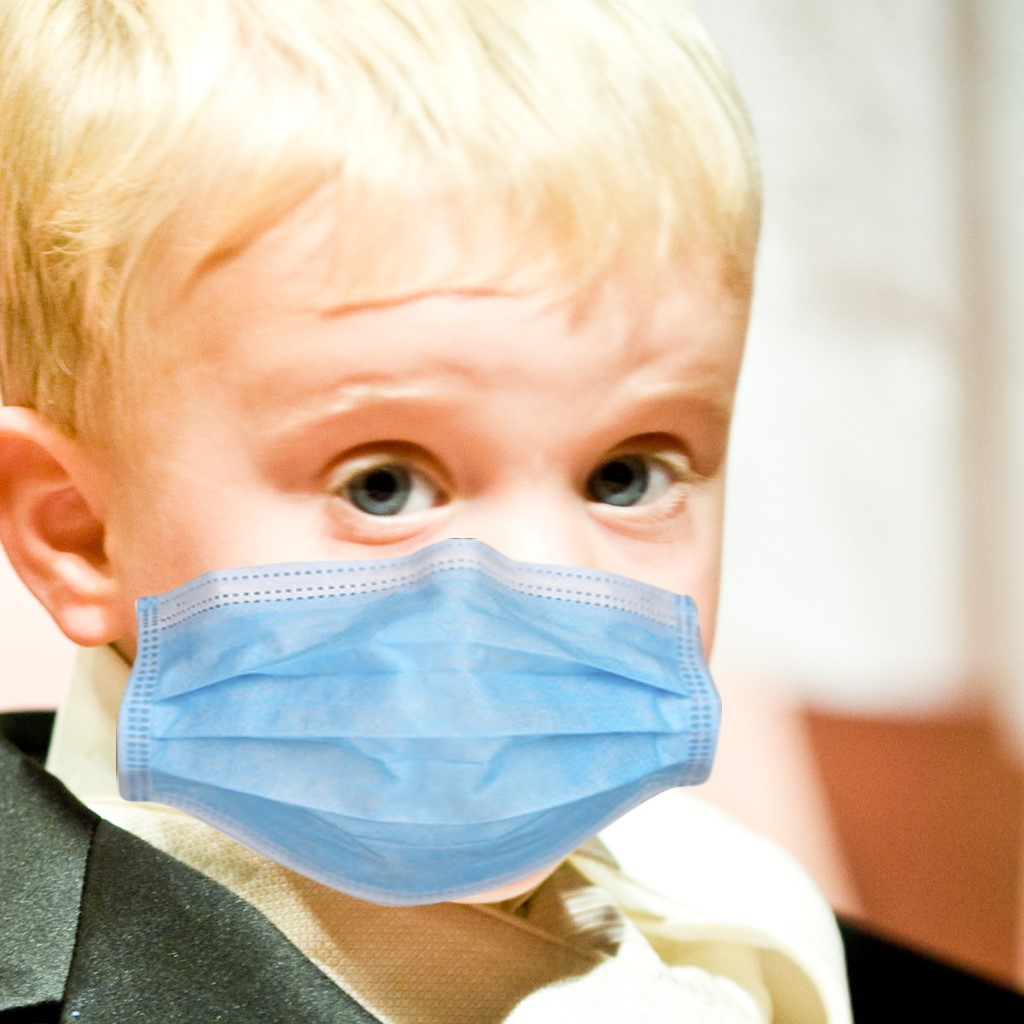con_mascara: (117, 191, 740, 877)
